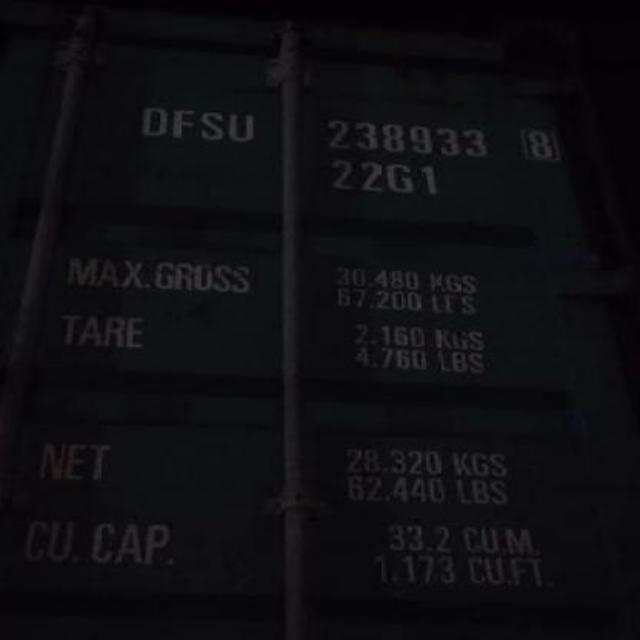2: (324, 114, 350, 154)
3: (458, 124, 494, 164), (434, 124, 462, 162), (356, 115, 382, 151)
8: (518, 122, 564, 164), (378, 120, 406, 154)
9: (410, 123, 434, 159)
D: (136, 100, 168, 140)
F: (168, 103, 192, 147)
S: (198, 106, 226, 144)
U: (224, 108, 260, 148)
